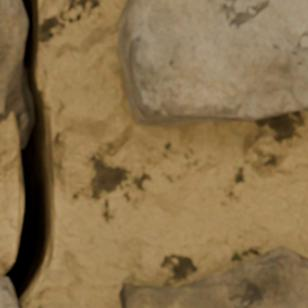brick: (120, 0, 307, 126), (121, 247, 307, 307), (0, 0, 27, 122), (0, 278, 17, 307)
crack: (0, 0, 63, 306)
